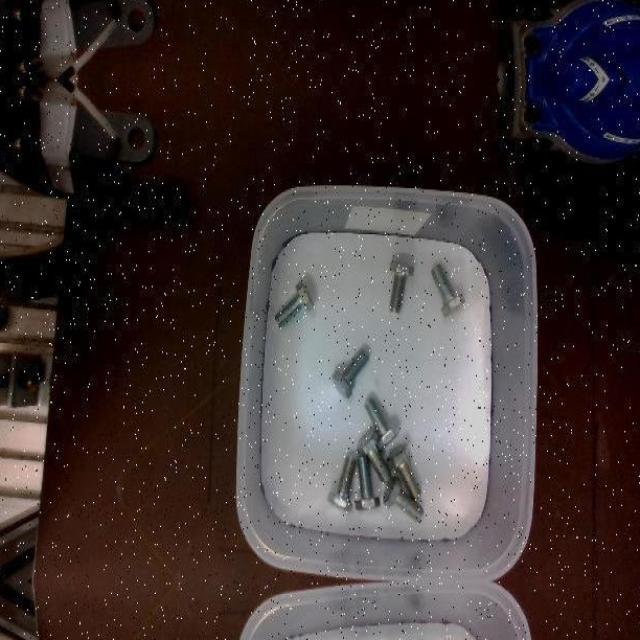screw: (386, 442, 420, 501), (382, 474, 423, 521), (274, 280, 314, 328), (332, 350, 370, 400), (356, 429, 391, 483), (364, 398, 400, 450), (431, 264, 465, 316), (326, 455, 356, 511), (354, 455, 380, 511), (389, 262, 414, 314)
